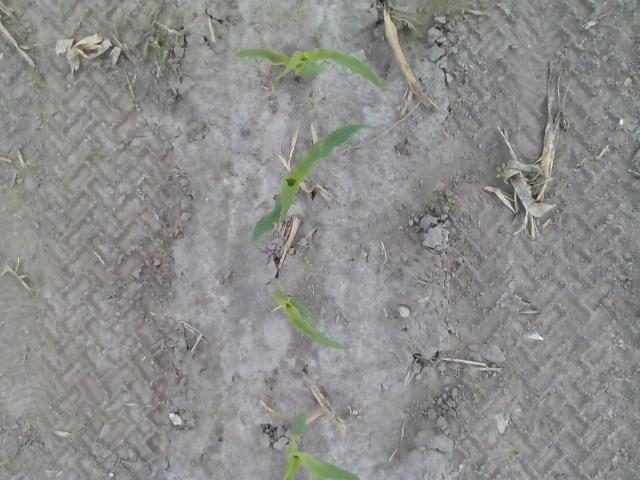Maize: (250, 122, 389, 238), (233, 44, 387, 90), (280, 409, 361, 480), (270, 288, 354, 350)
Weeds: (149, 36, 169, 58), (26, 71, 46, 87), (146, 229, 164, 244), (468, 381, 482, 399), (9, 189, 24, 204), (0, 448, 12, 466), (473, 465, 489, 477), (495, 162, 506, 178), (210, 402, 222, 416), (306, 98, 316, 114), (502, 448, 515, 460), (444, 198, 456, 210), (308, 312, 317, 324), (96, 151, 106, 161), (249, 377, 260, 386), (622, 410, 632, 419), (188, 283, 200, 290), (24, 160, 34, 168), (186, 408, 193, 416), (112, 206, 120, 212), (62, 330, 70, 336), (616, 332, 623, 338), (460, 232, 464, 238)
